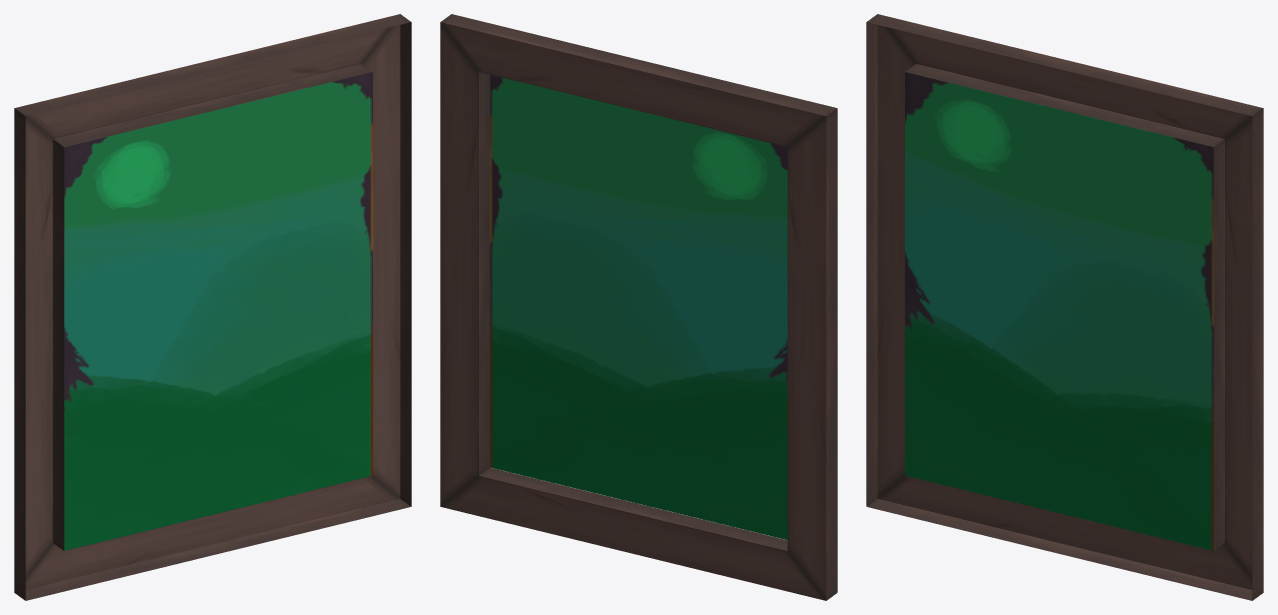
The model's file is medium_painting_3.fbx.
The picture shows the model from 3 angles, left to right: view 1: azimuth 30°, elevation 25°; view 2: azimuth 150°, elevation 25°; view 3: azimuth 330°, elevation 25°; orthographic projection.
Visible parts, largest first — view 1: medium_painting_3; view 2: medium_painting_3; view 3: medium_painting_3.
Part boxes in pixels (x1,y1,x2,y2): medium_painting_3: (14,14,411,600); medium_painting_3: (440,14,837,600); medium_painting_3: (866,14,1263,600).
Size of the model in its own units: 2 by 0.1 by 2.4.
